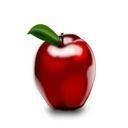apple: (30, 32, 99, 113)
